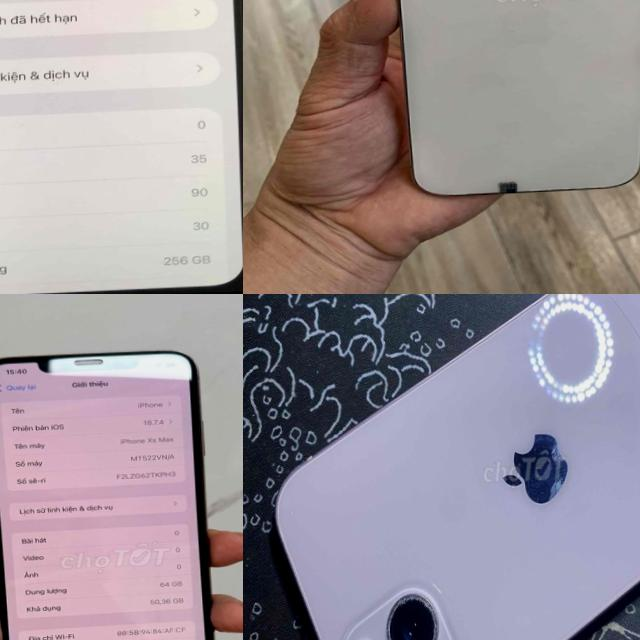gen_11: (0, 0, 243, 294)
gen_12_13: (264, 294, 640, 640), (375, 0, 640, 199)
gen_x_xs: (0, 341, 234, 640)
